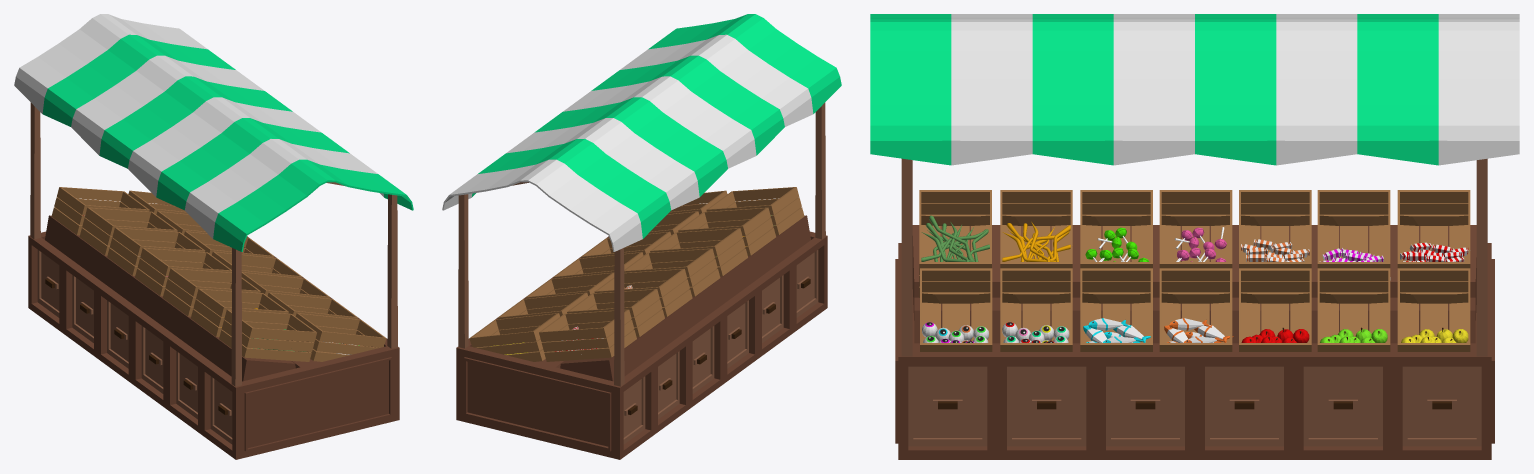
Rendered from puestoIngredientes6.fbx.
3 renders of one model, left to right at view 1: azimuth 30°, elevation 25°; view 2: azimuth 150°, elevation 25°; view 3: azimuth 270°, elevation 25°, orthographic. The views are drawn at different scales.
Parts seen in each view (by area): view 1: Base, ToldoColor, ToldoBlanco, Cajones, Postes, Cube.2398, Cube.2391, Cube.2404, Cube.2402, Cube.2401, Cube.2403, Cube.2400 (+8 smaller); view 2: Base, ToldoBlanco, ToldoColor, Cajones, Postes, Cube.2404, Cube.2397, Cube.2398, Cube.2399, Cube.2401, Cube.2400, Cube.2403 (+8 smaller); view 3: ToldoColor, ToldoBlanco, Cajones, Base, Cube.2396, Cube.2397, Cube.2395, Cube.2403, Cube.2392, Cube.2391, Cube.2394, Cube.2393 (+8 smaller).
Part boxes in pixels (box(x1,y1,x2,y2)): Base: box(28, 204, 399, 459); ToldoColor: box(42, 34, 413, 251); ToldoBlanco: box(14, 14, 383, 238); Cajones: box(37, 250, 232, 444); Postes: box(30, 102, 397, 386); Cube.2398: box(219, 309, 316, 361); Cube.2391: box(295, 313, 386, 361); Cube.2404: box(51, 187, 149, 235); Cube.2402: box(107, 227, 205, 275); Cube.2401: box(135, 248, 231, 296); Cube.2403: box(79, 207, 177, 255); Cube.2400: box(162, 268, 260, 316); Base: box(456, 204, 827, 459); ToldoBlanco: box(442, 34, 813, 251); ToldoColor: box(472, 14, 841, 238); Cajones: box(623, 250, 818, 444); Postes: box(458, 102, 825, 386); Cube.2404: box(539, 309, 636, 361); Cube.2397: box(469, 313, 559, 361); Cube.2398: box(706, 187, 804, 235); Cube.2399: box(678, 207, 775, 255); Cube.2401: box(624, 248, 720, 296); Cube.2400: box(650, 228, 747, 276); Cube.2403: box(567, 289, 664, 337); ToldoColor: box(870, 14, 1438, 165); ToldoBlanco: box(951, 14, 1519, 165); Cajones: box(908, 366, 1481, 446); Base: box(895, 225, 1494, 459); Cube.2396: box(1317, 268, 1390, 351); Cube.2397: box(1397, 268, 1470, 351); Cube.2395: box(1239, 268, 1311, 351); Cube.2403: box(1317, 190, 1390, 268); Cube.2392: box(1000, 268, 1072, 351); Cube.2391: box(920, 268, 992, 351); Cube.2394: box(1159, 268, 1232, 351); Cube.2393: box(1080, 268, 1152, 351).
Bounding box in the file's own units: 720 × 1065 × 1645.
